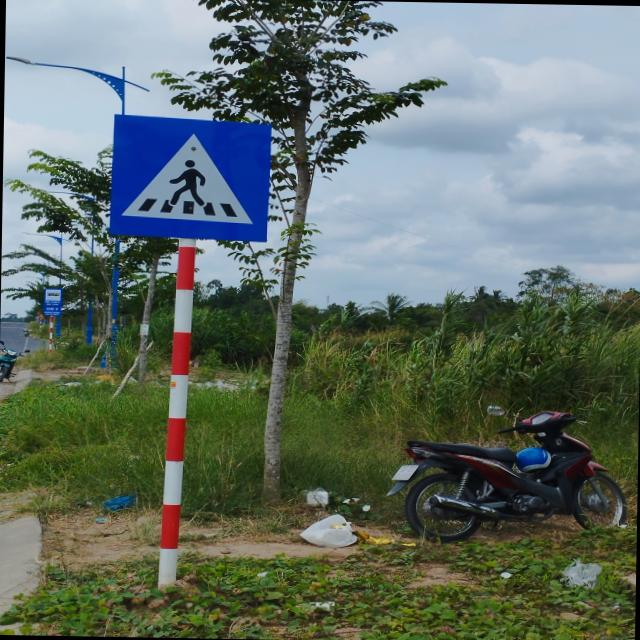Giao_Nhau_Duong_Uu_Tien: (110, 114, 270, 242)
